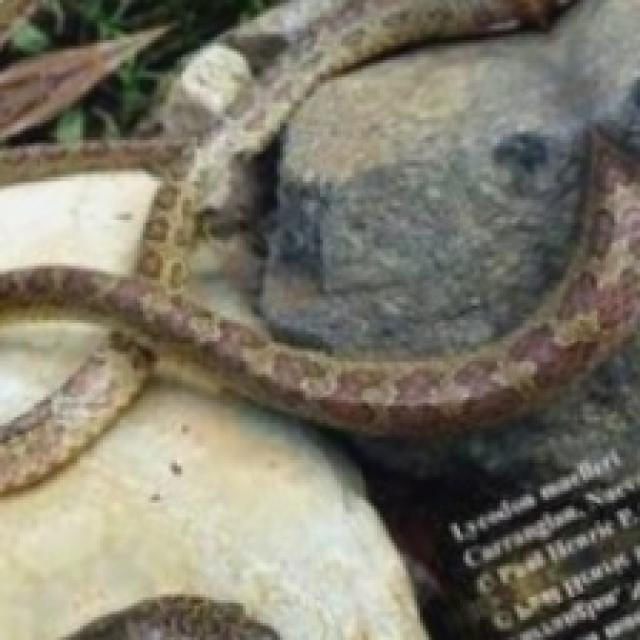mullers wolf snake: (0, 0, 637, 434), (191, 129, 283, 334)
